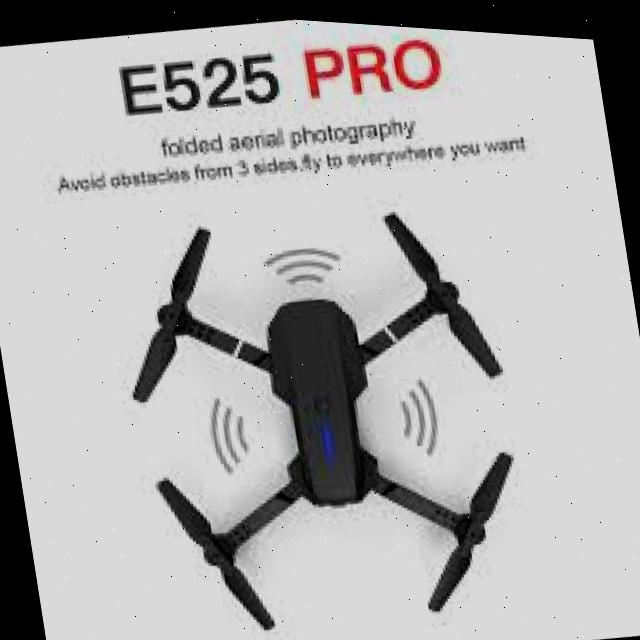drone: (78, 158, 551, 640)
